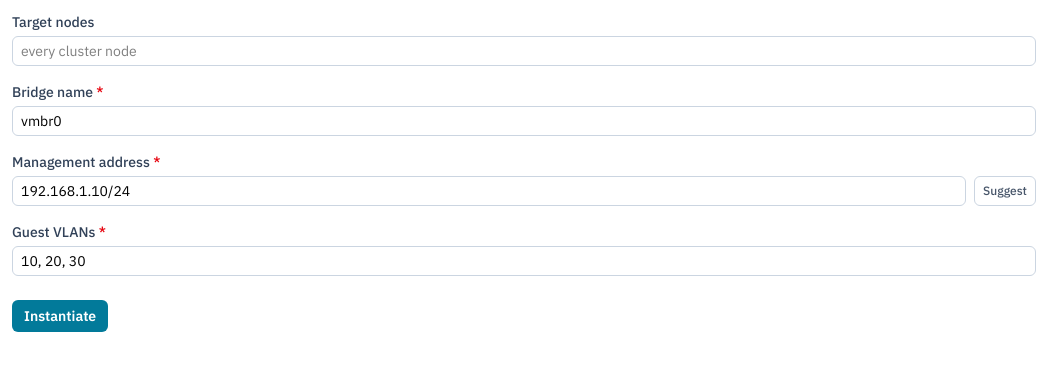
Scenario: ParamForm › blocks submission and shows an error for a bad CIDR (AC4)
Step 1. Replace the text in the field labelled "Management address *" with "not-a-cidr" → (489, 191), box [12,176,966,206]
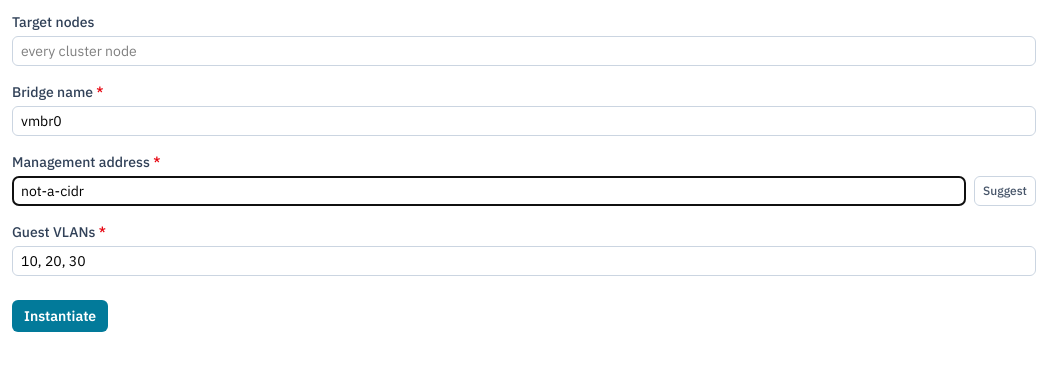
Step 2. Click the button "Instantiate" → click(60, 316), box [12,300,108,332]
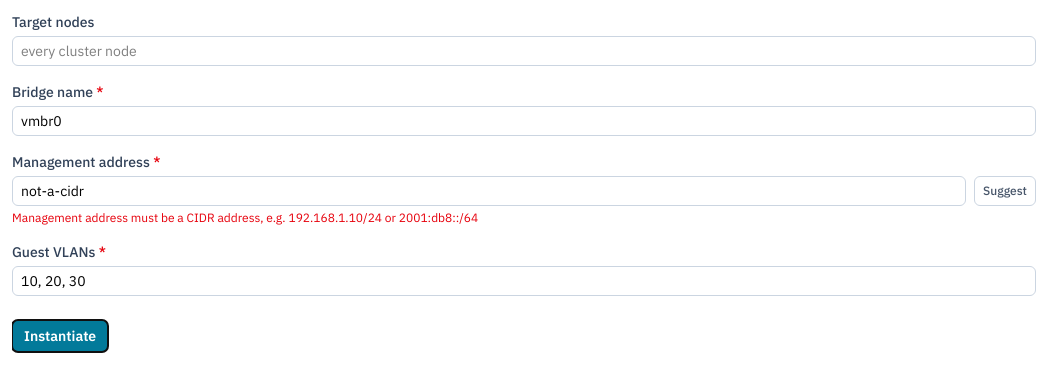
Expected: the text "must be a CIDR address" is shown, [12,210,478,225]
